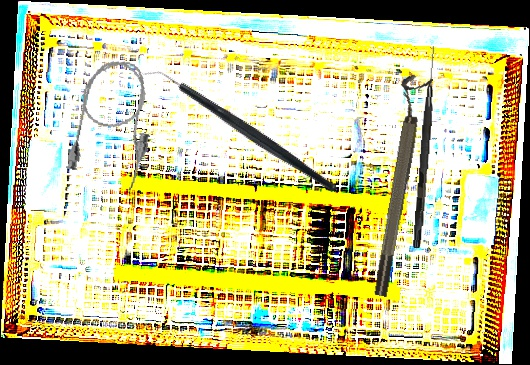Cannula: (64, 54, 163, 192)
Chopper: (141, 19, 338, 242)
Fixation Ring: (361, 73, 433, 298)
Hook Surgical: (412, 45, 438, 249)
